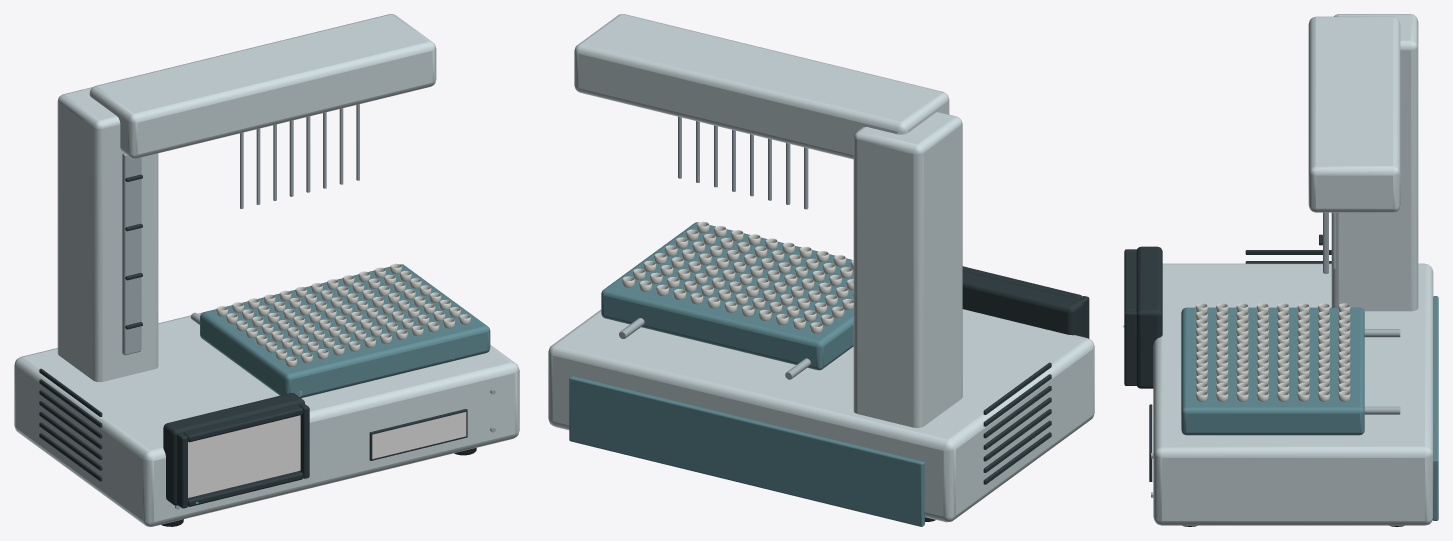
File: ID_MicroplateHandler.fbx
3 views of the same model, side by side, from view 1: azimuth 30°, elevation 25°; view 2: azimuth 150°, elevation 25°; view 3: azimuth 270°, elevation 25° (orthographic). The views are drawn at different scales.
Parts seen in each view (by area): view 1: ID_MicroplateHandler; view 2: ID_MicroplateHandler; view 3: ID_MicroplateHandler.
Part boxes in pixels (box(x1,y1,x2,y2)): ID_MicroplateHandler: box(14, 14, 519, 526); ID_MicroplateHandler: box(548, 14, 1094, 526); ID_MicroplateHandler: box(1123, 14, 1438, 526).
Size of the model in its own units: 88.5 by 80 by 61.9.
